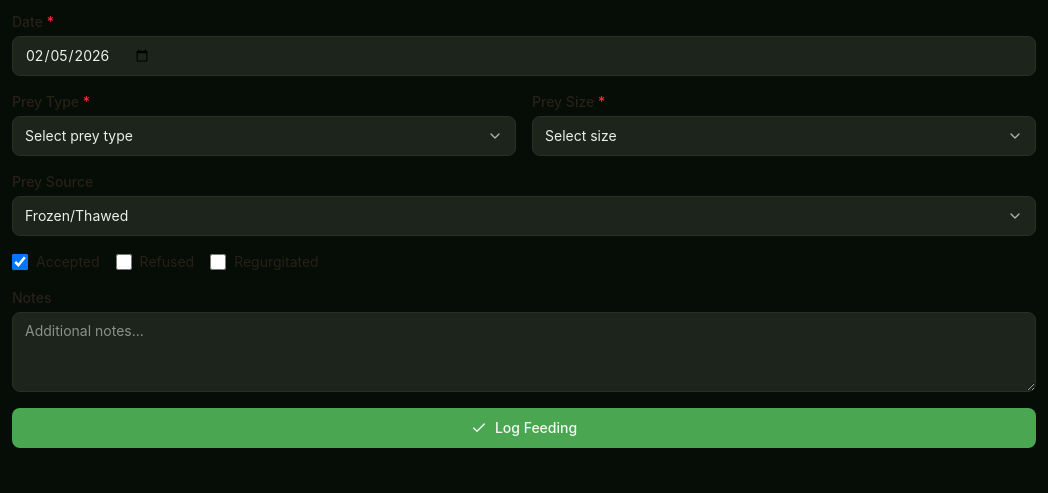
Test case: FeedingForm › validation › should show error when prey size is not selected
# Select prey type but not size
Step 1. Click the dropdown labelled "Select prey type" → (79, 136), box x1=12 y1=116 x2=516 y2=156
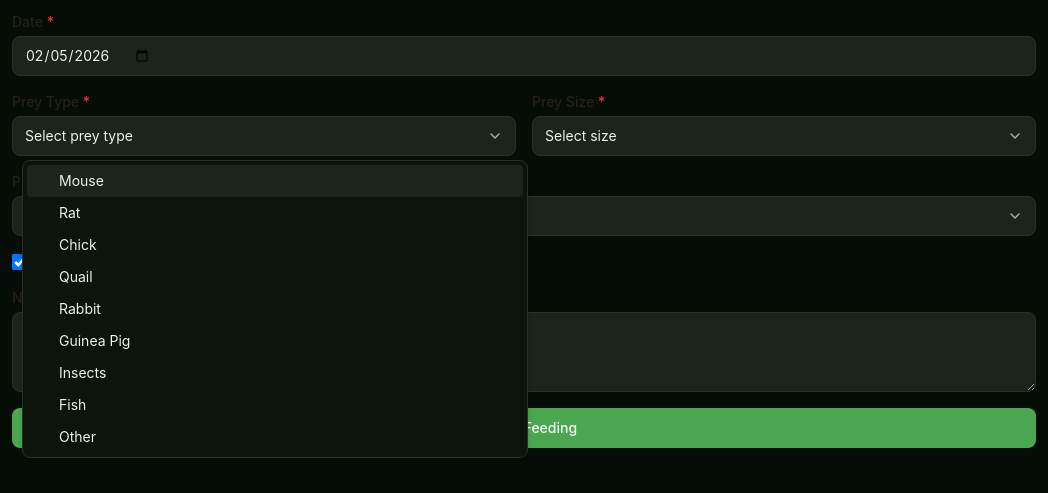
Expected: the option "Mouse" is shown
Step 2. Click the option "Mouse" → (81, 180), box x1=27 y1=165 x2=523 y2=197
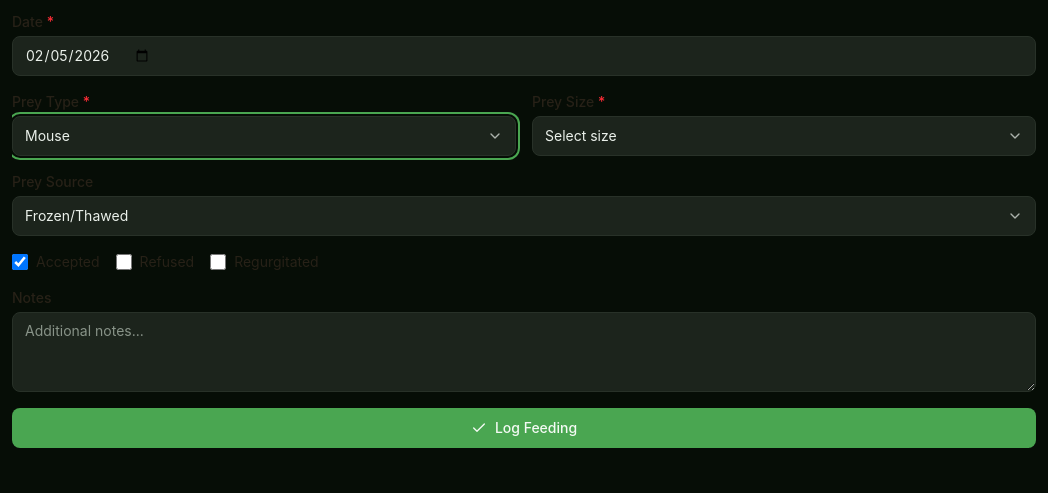
Step 3. Click the button "Log Feeding" → (524, 428), box x1=12 y1=408 x2=1036 y2=448
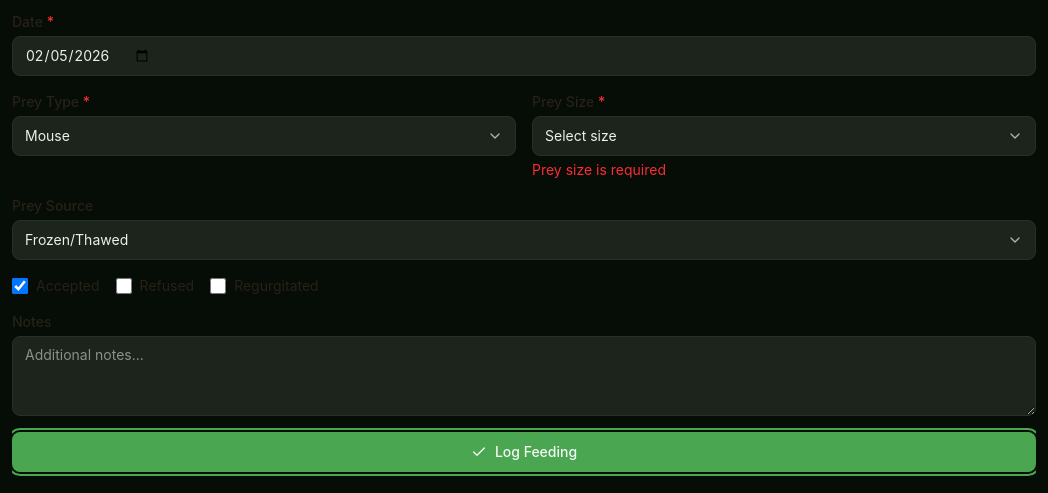
Expected: the text "Prey size is required" is shown, x1=532 y1=161 x2=666 y2=178
